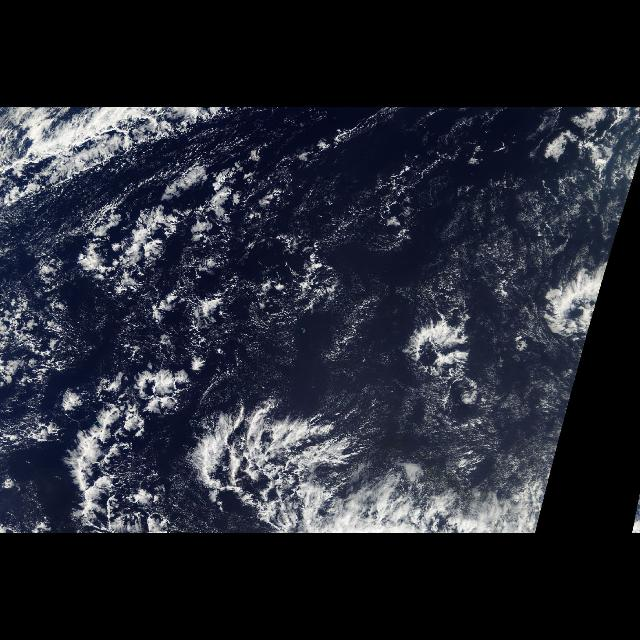Fish: (31, 361, 443, 534)
Gravel: (75, 180, 372, 346)
Sugar: (236, 150, 604, 334), (360, 390, 550, 472)
